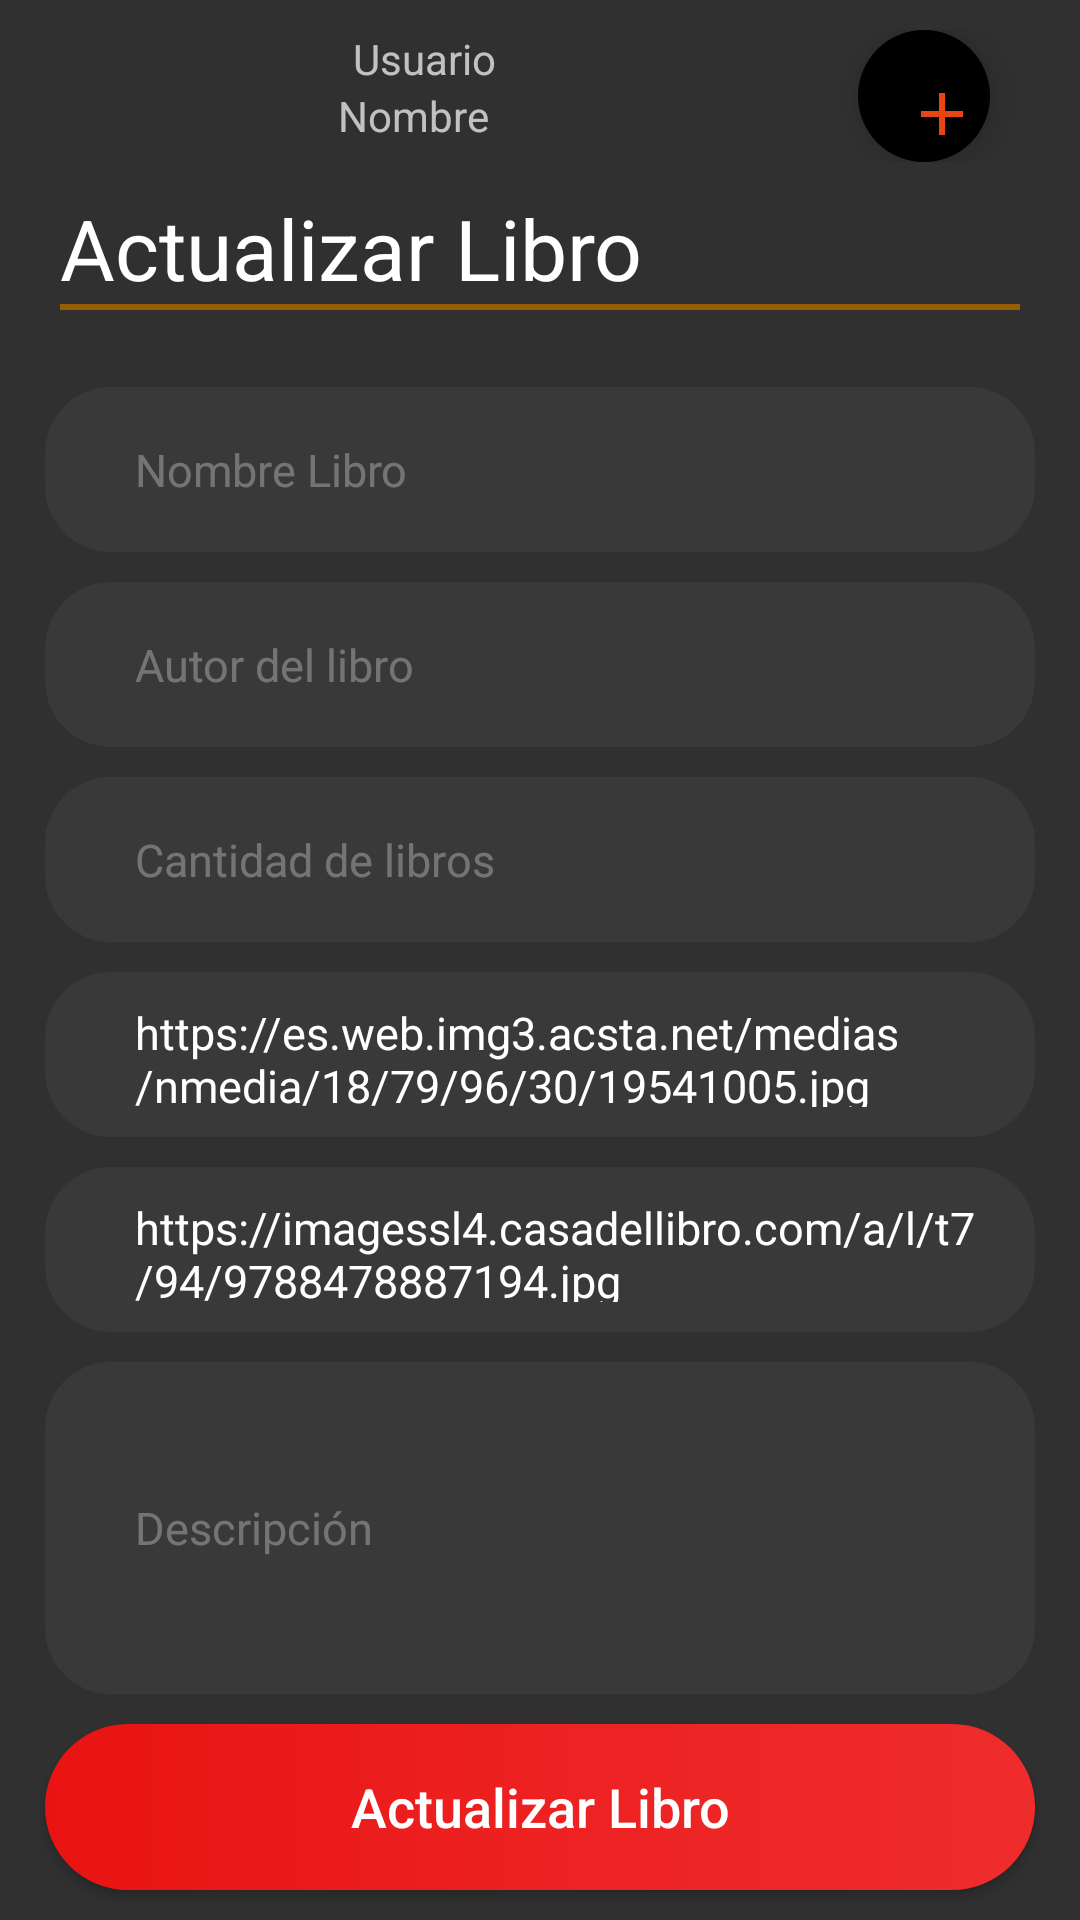

Named icons in this screenshot (1080px×1920px) and their centers, point (x, y):
mas: point (924, 96)
